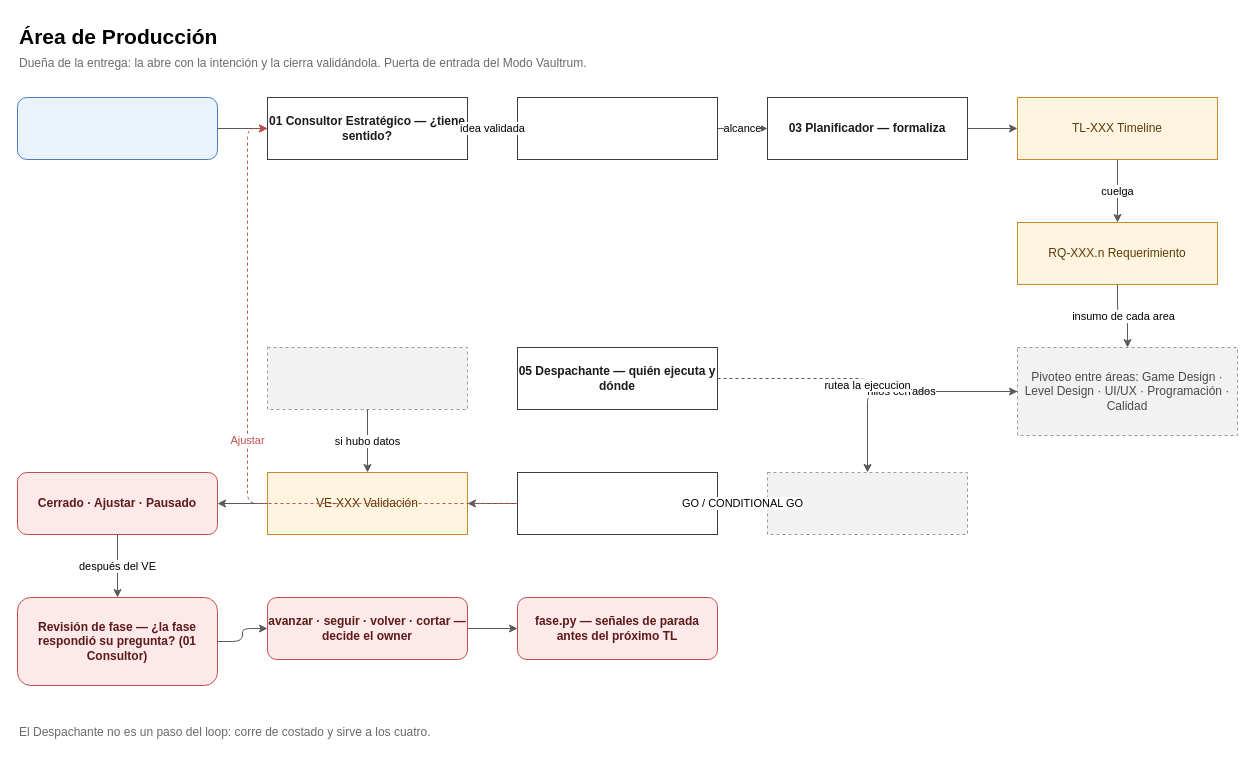
The diagram is 1255 pixels wide and 759 high, and some of its shapes have lost their labels. The shapes that lost their labels are listed below. From the top down, each one's box as (x1, y1, x2, y2) in pixels, then its label:
(16, 96, 218, 160): Intención abierta del owner · idea · problema · objetivo
(516, 96, 718, 160): 02 Traductor Operativo — baja a tierra
(266, 346, 468, 410): MET-XXX lectura del playtest (Métricas)
(516, 472, 718, 534): 04 Validador de Entrega
(766, 472, 968, 534): QA-XXX gate de entrega (Calidad)
